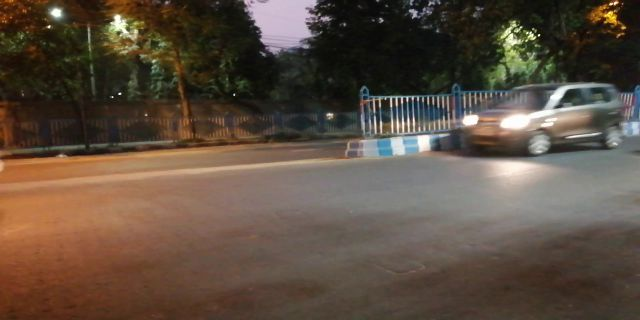Car: (462, 83, 627, 159)
